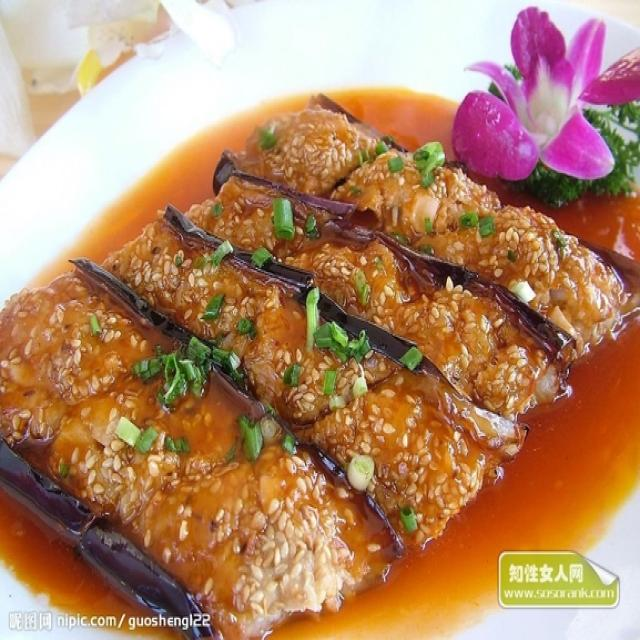鸡蛋料理: (13, 55, 566, 612)
